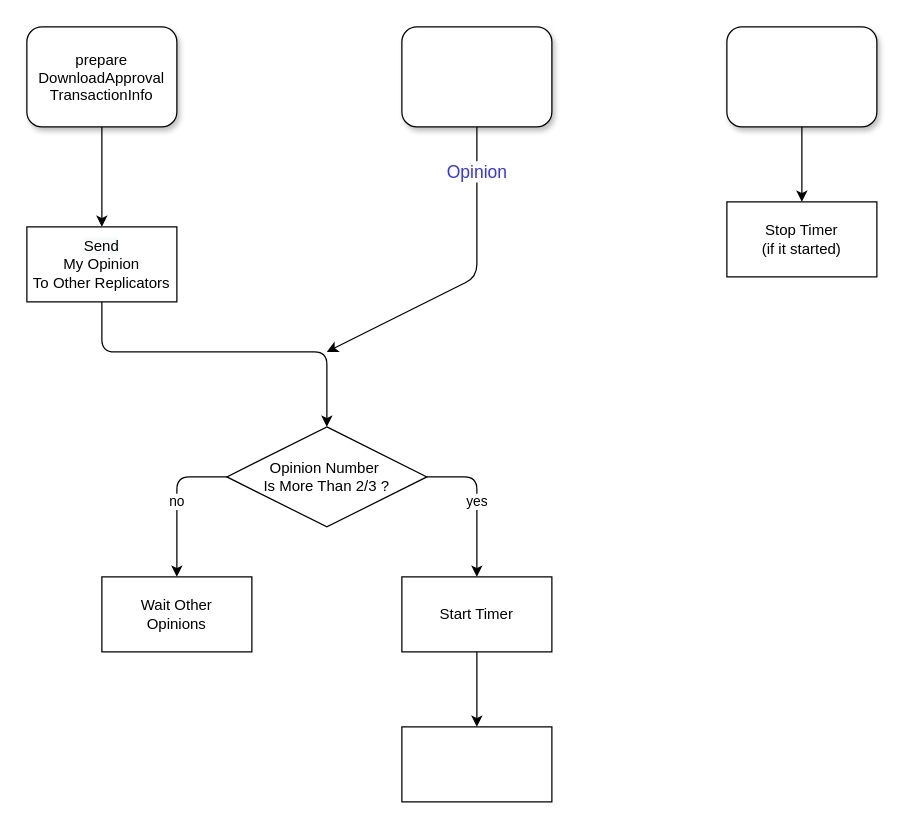
The diagram is 906 pixels wide and 824 high, and some of its shapes have lost their labels. The shapes that lost their labels are listed below. From the top down, each one's centre as x and y in pixels, then its label:
At pixel 477 78: "Other Opinion Received".
At pixel 802 78: "Approval Transaction Published".
At pixel 476 764: "Send Transaction To Harvester".
